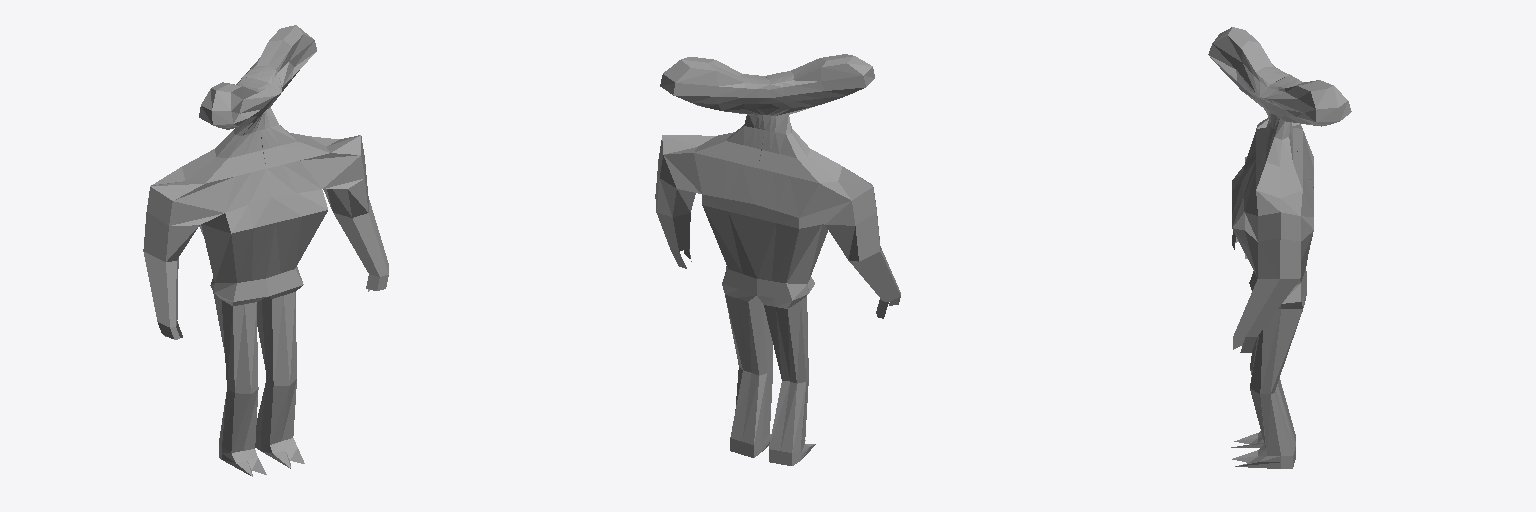
The model's file is templateAnim2.obj.
The picture shows the model from 3 angles: view 1: azimuth 30°, elevation 25°; view 2: azimuth 150°, elevation 25°; view 3: azimuth 270°, elevation 25°; orthographic projection.
Visible parts, largest first — view 1: Cube; view 2: Cube; view 3: Cube.
Boxes of the visible parts, <box> form: Cube: <box>143,25,388,476</box>; Cube: <box>655,54,900,465</box>; Cube: <box>1208,27,1351,468</box>.
Bounding box in the file's own units: 0.9804 × 1.6 × 0.5265.